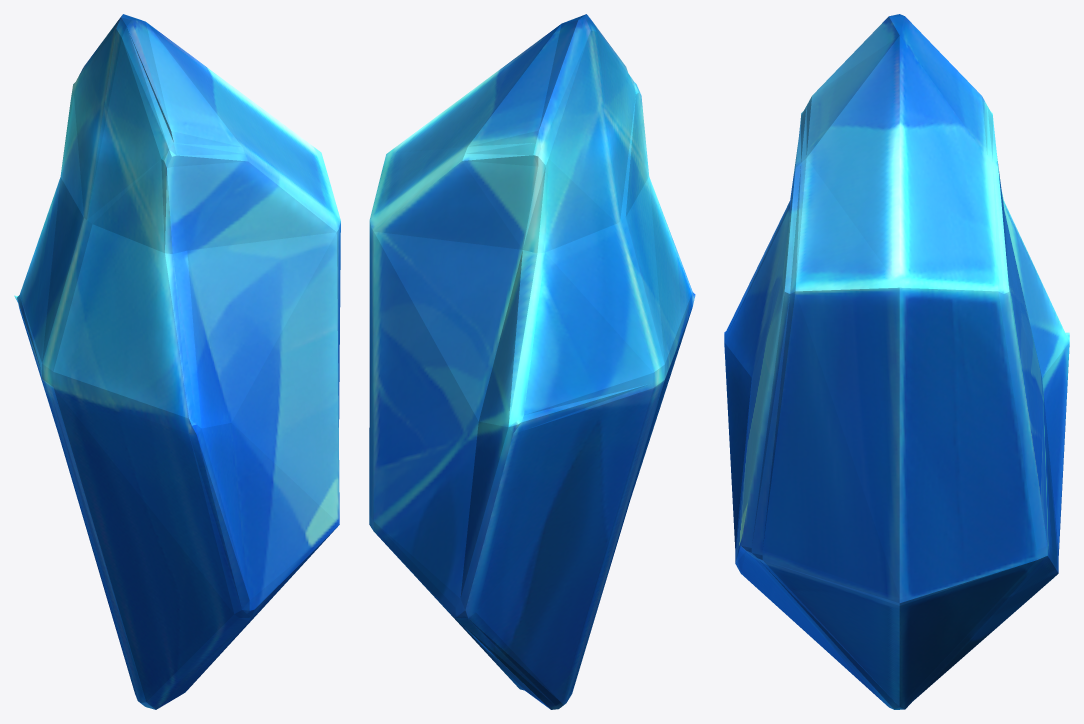
File: Staff_Gem_Lvl2.glb
3 renders of one model, left to right at view 1: azimuth 30°, elevation 25°; view 2: azimuth 150°, elevation 25°; view 3: azimuth 270°, elevation 25°, orthographic. The views are drawn at different scales.
Visible parts, largest first — view 1: Staff_Gem_Lvl2; view 2: Staff_Gem_Lvl2; view 3: Staff_Gem_Lvl2.
Boxes of the visible parts, box(x1,y1,x2,y2) form: Staff_Gem_Lvl2: box(14, 14, 340, 709); Staff_Gem_Lvl2: box(369, 14, 695, 709); Staff_Gem_Lvl2: box(724, 14, 1069, 709).
Size of the model in its own units: 0.2192 by 0.5323 by 0.2466.
Materials: 1 (1 with a texture image).
